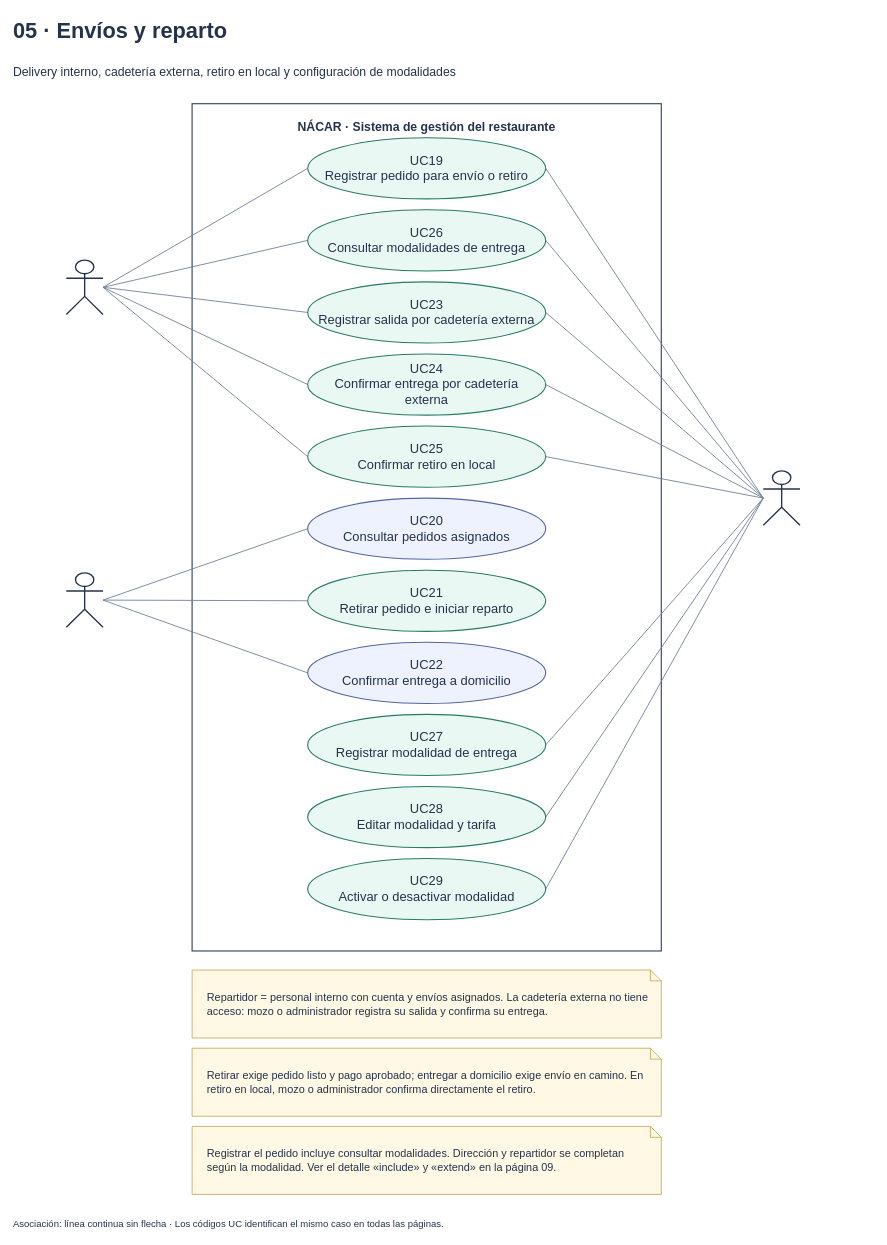
This 887x1245 diagram has some shape labels left out. The centre of each missing label's shape, as x and y in pixels:
"Administrador" belongs at (781,498).
"Mozo" belongs at (84,287).
"Repartidor" belongs at (84,600).
